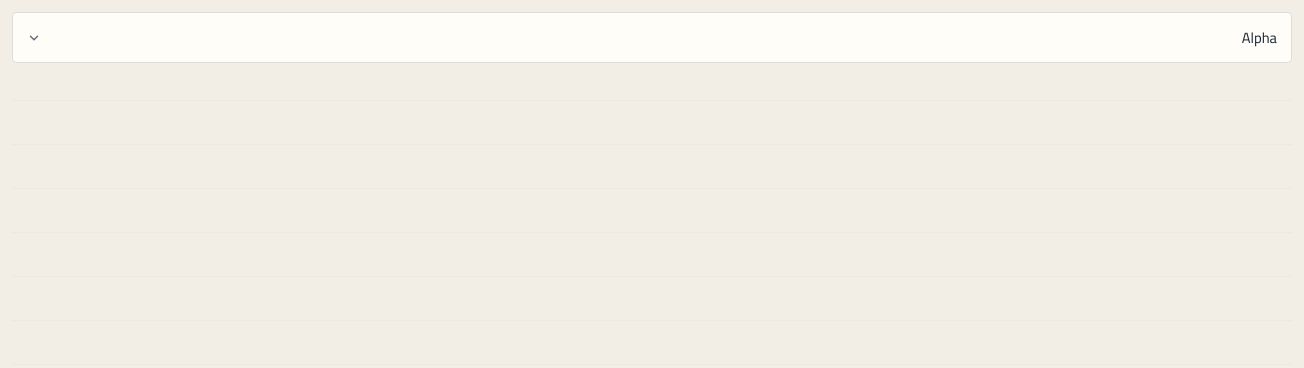
Test: Select — searchable variant › shows the empty message when nothing matches, and commits nothing
This screenshot has width=1304, height=368.
Later steps or results of the test are not shown.
Click the dropdown named "Test select". click: (1259, 38)
box: [12,12,1292,63]
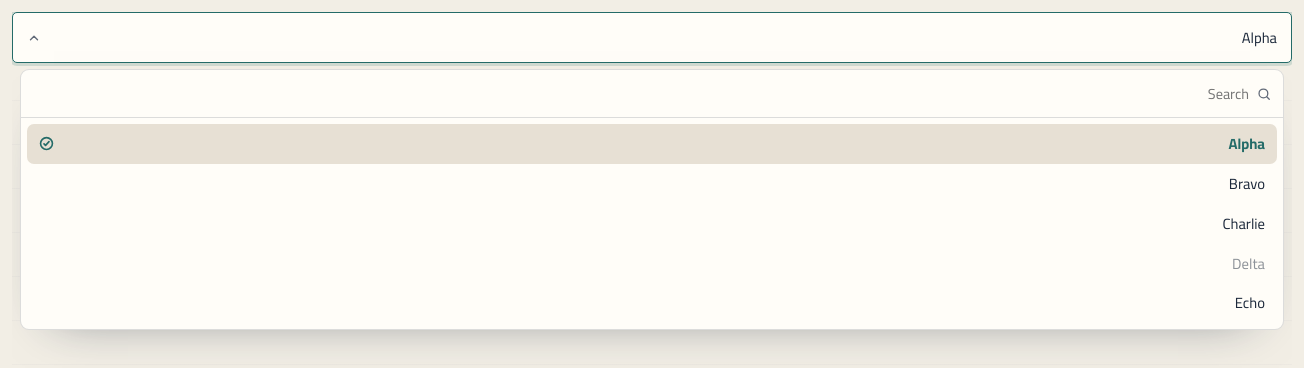
Type "zzzz" into the field with placeholder "Search". click: (641, 94)
box: [33,80,1249,107]
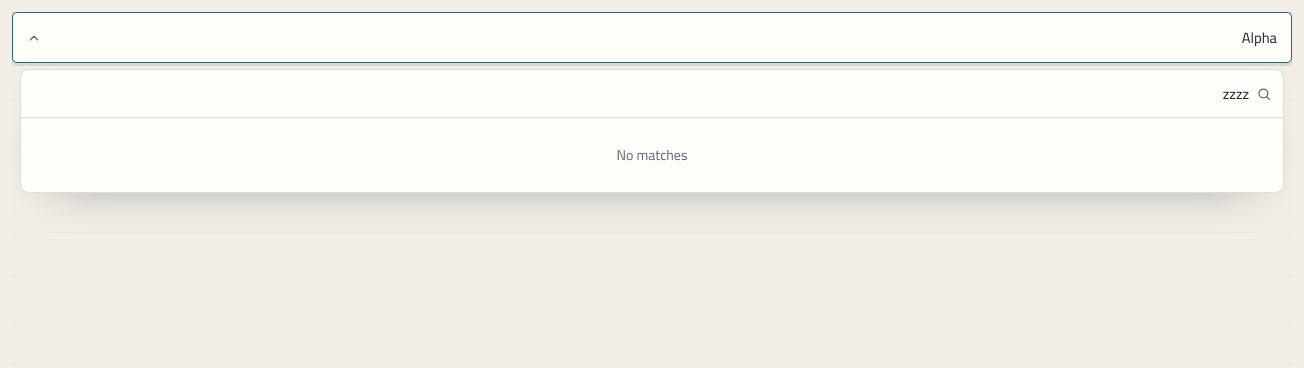
Expected: the text "No matches" is shown, [616,142,688,168]
Expected: no options are shown
